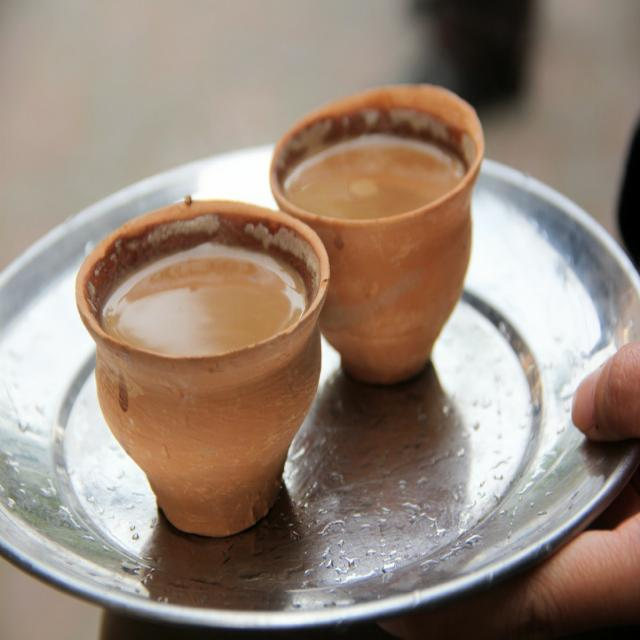Chai: (90, 243, 304, 355), (284, 136, 466, 218)
